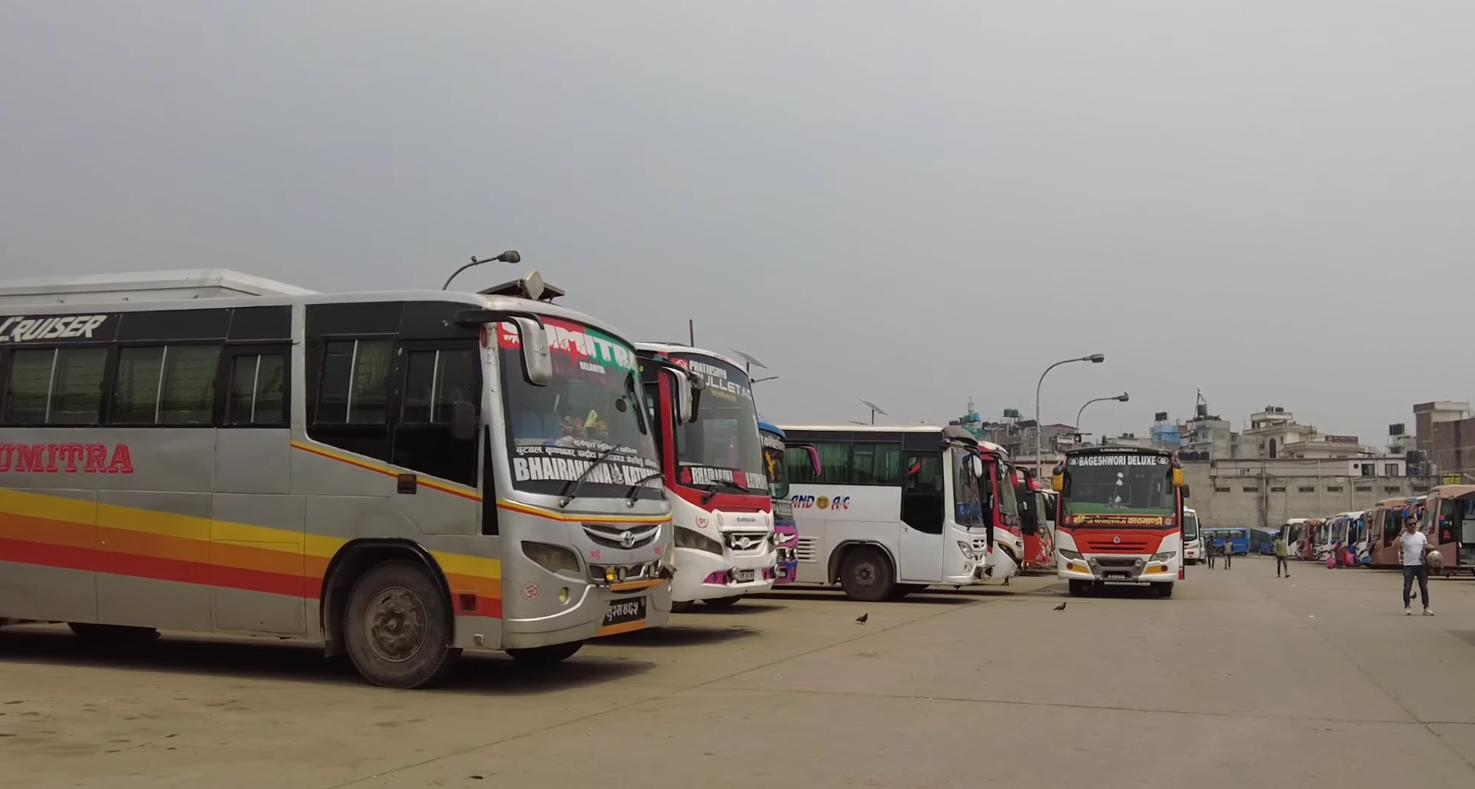bus: (0, 257, 677, 716), (769, 403, 991, 606), (1043, 432, 1197, 600)
